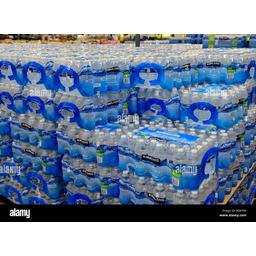plastic: (187, 148, 202, 197), (103, 127, 119, 171), (173, 148, 186, 196)
